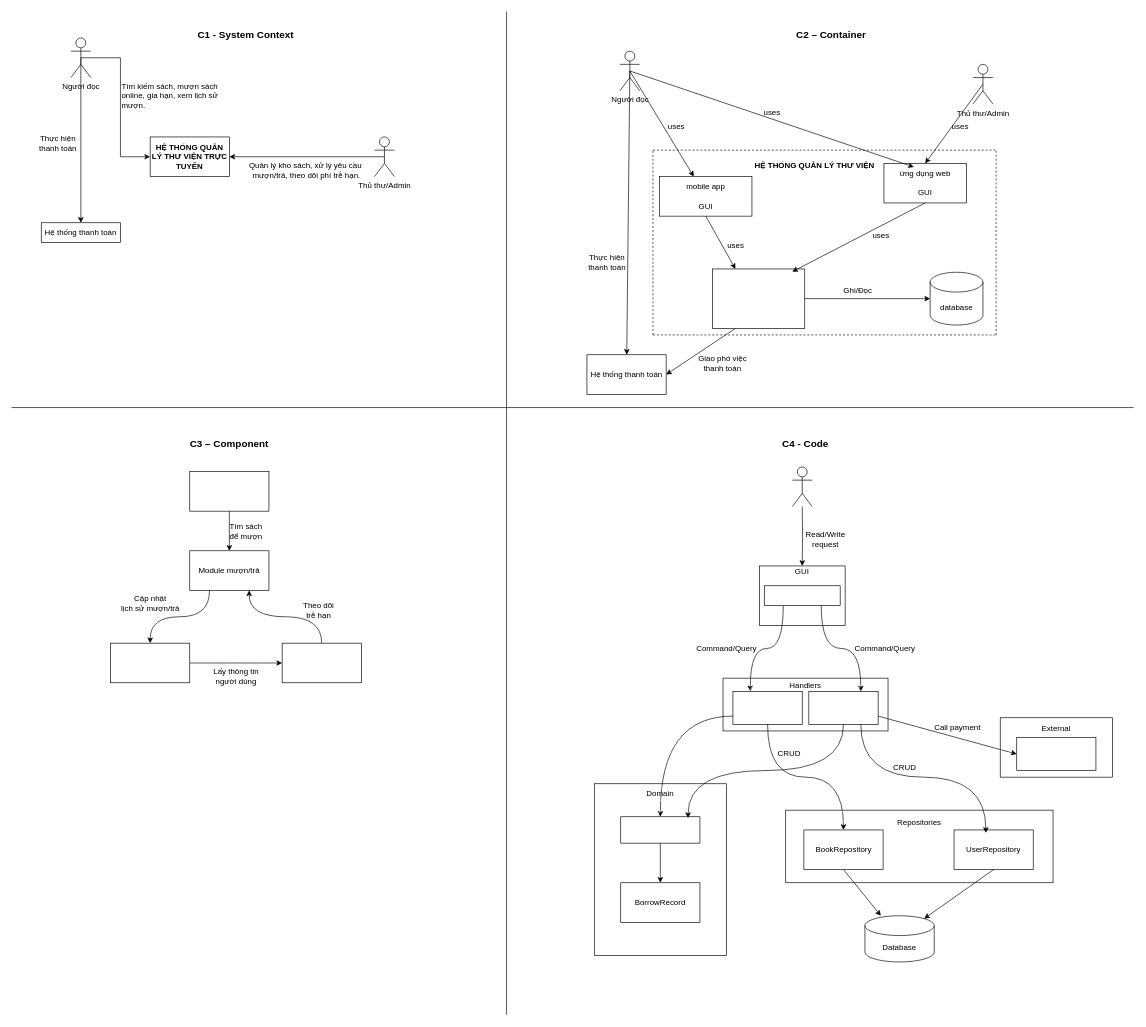
Some shapes in this 1146 by 1027 pixel diagram are drawn without their labels. Here are the shapes that lost their labels. From the top down, the centre of each, then its label:
At (x=758, y=298): "HỆ THỐNG QUẢN LÝ THƯ VIỆN API backend".
At (x=229, y=491): "Module tìm kiếm".
At (x=802, y=486): "Người dùng".
At (x=802, y=595): "UI Mượn/Trả".
At (x=150, y=663): "Module quản lý tài khoản".
At (x=321, y=663): "Admin Module".
At (x=767, y=707): "BorrowService".
At (x=843, y=707): "ReturnService".
At (x=1056, y=754): "PaymentAdapter".
At (x=660, y=829): "Domain Logic".
